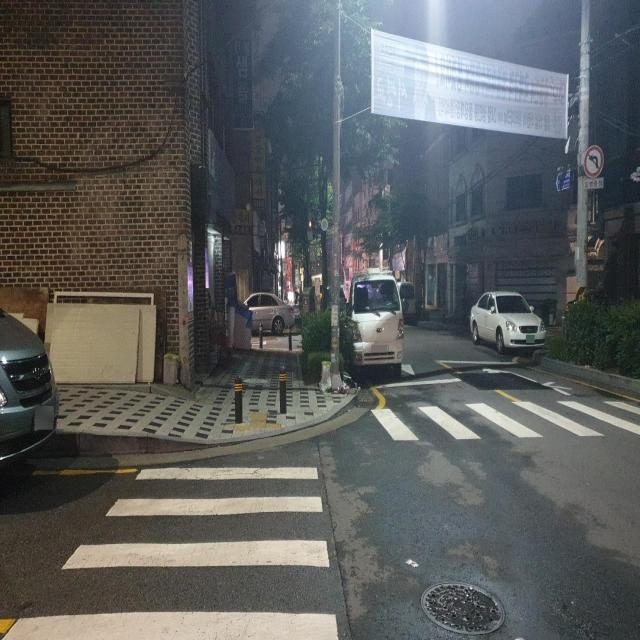횡단보도: (0, 463, 340, 640), (359, 384, 640, 446)
